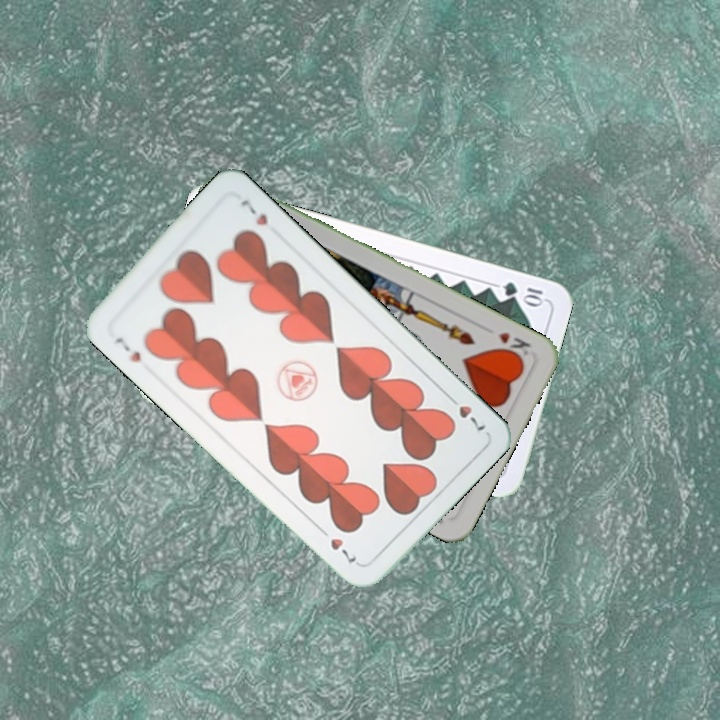G10: (498, 277, 548, 308)
H7: (442, 389, 488, 434), (111, 333, 144, 365)
HK: (494, 328, 534, 363)
